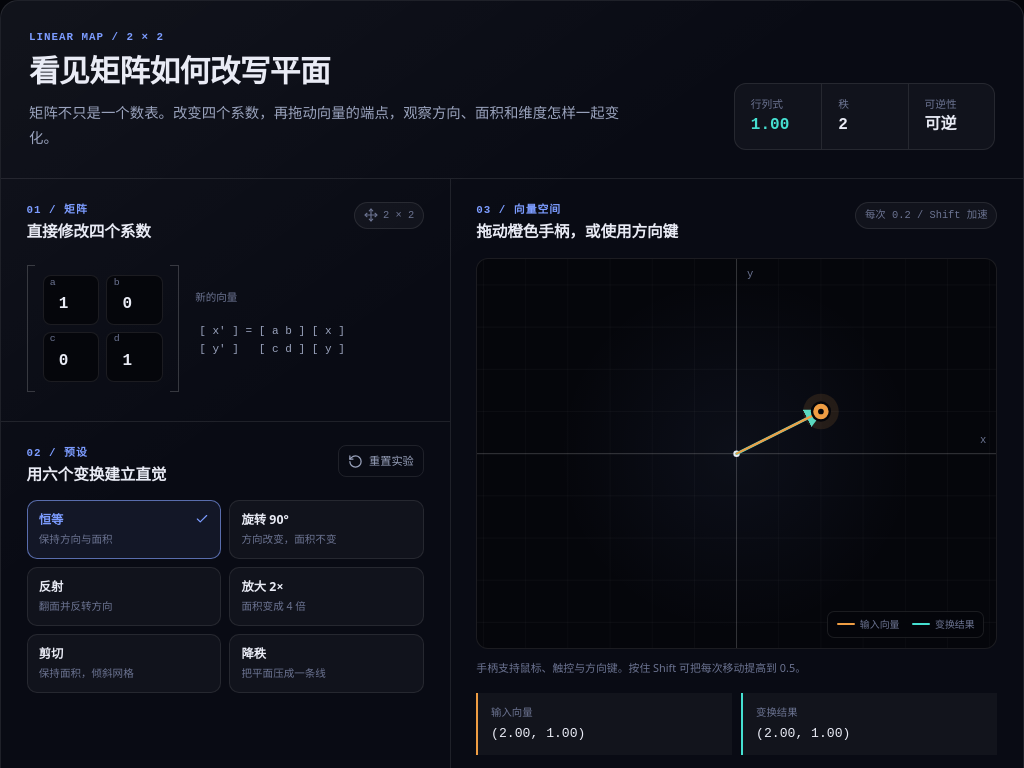
矩阵学习实验 › 预设可以一键构造降秩变换
This screenshot has width=1024, height=768.
Click the button "降秩 把平面压成一条线".
click(327, 664)  # box [229, 634, 424, 693]
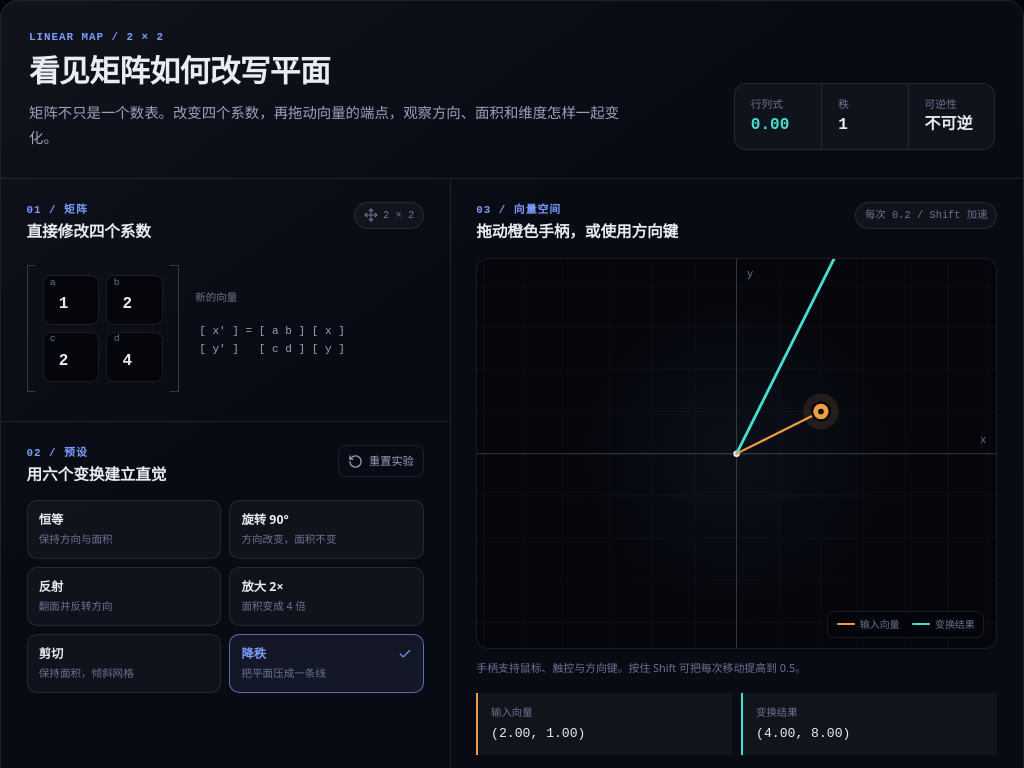
Now the text with test id "matrix-determinant" reads "0.00", box [751, 116, 789, 134]
Now the text with test id "matrix-rank" reads "1", box [838, 116, 848, 134]
